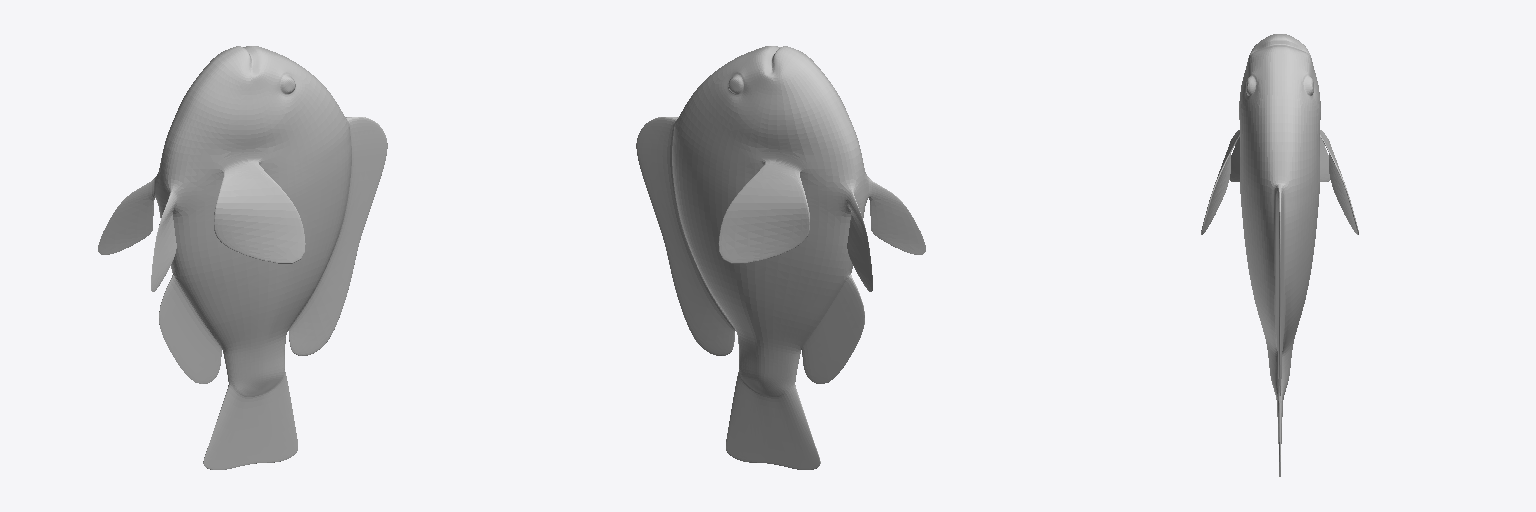
File: fisi5.obj
The picture shows the model from 3 angles: view 1: azimuth 30°, elevation 25°; view 2: azimuth 150°, elevation 25°; view 3: azimuth 270°, elevation 25°; orthographic projection.
Visible parts, largest first — view 1: 12265_Fish_v1_L2; view 2: 12265_Fish_v1_L2; view 3: 12265_Fish_v1_L2.
Boxes of the visible parts, x1=… form: 12265_Fish_v1_L2: x1=98, y1=46, x2=387, y2=469; 12265_Fish_v1_L2: x1=636, y1=46, x2=925, y2=469; 12265_Fish_v1_L2: x1=1201, y1=34, x2=1358, y2=476.
Size of the model in its own units: 2.24 by 3.44 by 1.16.